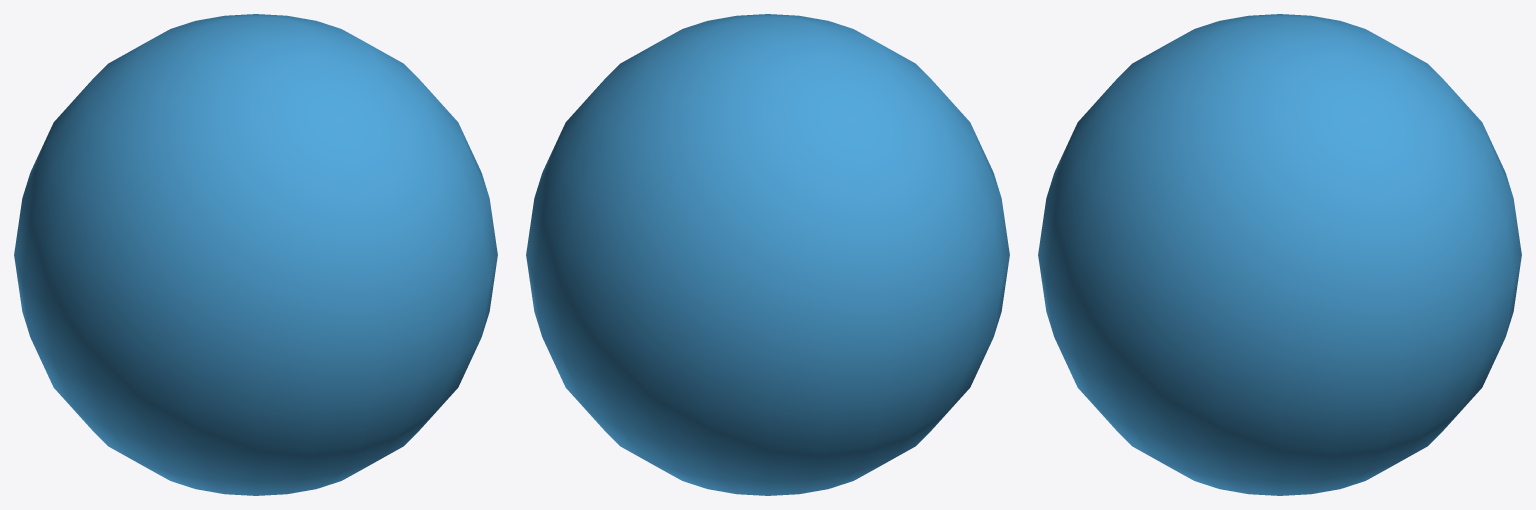
The model's file is block-world.gltf.
3 views of the same model, side by side, from view 1: azimuth 30°, elevation 25°; view 2: azimuth 150°, elevation 25°; view 3: azimuth 270°, elevation 25° (orthographic).
Visible parts, largest first — view 1: sky; view 2: sky; view 3: sky.
Part boxes in pixels (<box>): sky: <box>14,14,497,495</box>; sky: <box>526,14,1009,495</box>; sky: <box>1038,14,1521,495</box>.
Bounding box in the file's own units: 400 × 400 × 400.
